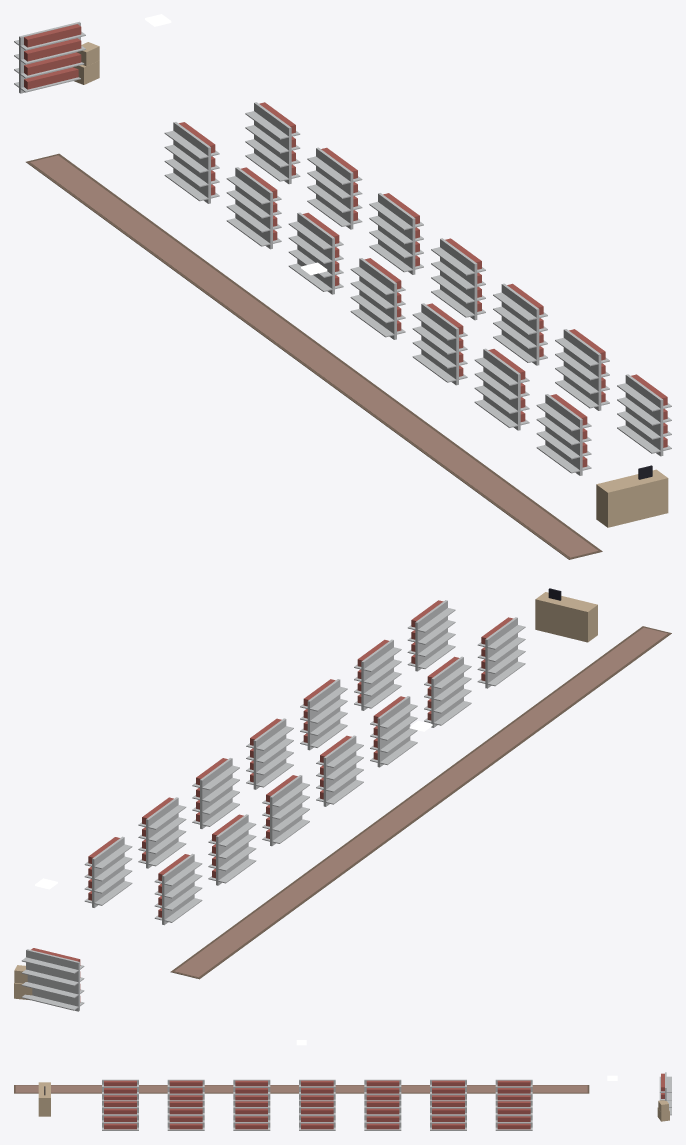
File: fine-s0.glb
The picture shows the model from 3 angles, top to bottom: view 1: azimuth 30°, elevation 25°; view 2: azimuth 150°, elevation 25°; view 3: azimuth 270°, elevation 25°; orthographic projection. The views are drawn at different scales.
Parts seen in each view (by area): view 1: soft-s0, shelving.000, shop-counter.000, shelf.004, shelf.005, shelf.011, shelf.001, shelf.013, shelf.006, shelf.012, shelf.000, shelf.003 (+6 smaller); view 2: soft-s0, shelving.000, shop-counter.000, shelf.011, shelf.004, shelf.000, shelf.006, shelf.012, shelf.013, shelf.008, shelf.010, shelf.001 (+5 smaller); view 3: soft-s0, shelf.007, shelf.009, shelf.011, shelf.012, shelf.008, shelf.010, shelf.013, shelf.000, shelf.002, shelf.004, shelf.005 (+6 smaller).
Part boxes in pixels (x1=…): soft-s0: x1=26, y1=153, x2=602, y2=559; shelving.000: x1=14, y1=21, x2=85, y2=93; shop-counter.000: x1=596, y1=465, x2=668, y2=527; shelf.004: x1=412, y1=303, x2=467, y2=385; shelf.005: x1=474, y1=348, x2=529, y2=430; shelf.011: x1=493, y1=283, x2=547, y2=365; shelf.001: x1=226, y1=167, x2=281, y2=249; shelf.013: x1=617, y1=374, x2=671, y2=456; shelf.006: x1=536, y1=394, x2=591, y2=475; shelf.012: x1=555, y1=329, x2=609, y2=410; shelf.000: x1=164, y1=122, x2=219, y2=203; shelf.003: x1=350, y1=258, x2=405, y2=339; soft-s0: x1=170, y1=626, x2=671, y2=979; shelving.000: x1=21, y1=948, x2=84, y2=1011; shop-counter.000: x1=535, y1=588, x2=597, y2=642; shelf.011: x1=300, y1=679, x2=347, y2=750; shelf.004: x1=370, y1=696, x2=417, y2=767; shelf.000: x1=154, y1=853, x2=202, y2=925; shelf.006: x1=477, y1=617, x2=525, y2=688; shelf.012: x1=354, y1=639, x2=401, y2=710; shelf.013: x1=407, y1=600, x2=455, y2=671; shelf.008: x1=138, y1=797, x2=186, y2=868; shelf.010: x1=246, y1=718, x2=293, y2=789; shelf.001: x1=208, y1=814, x2=256, y2=885; soft-s0: x1=14, y1=1085, x2=589, y2=1093; shelf.007: x1=495, y1=1100, x2=532, y2=1130; shelf.009: x1=364, y1=1100, x2=401, y2=1130; shelf.011: x1=233, y1=1100, x2=270, y2=1130; shelf.012: x1=167, y1=1100, x2=204, y2=1130; shelf.008: x1=430, y1=1100, x2=466, y2=1130; shelf.010: x1=299, y1=1100, x2=335, y2=1130; shelf.013: x1=102, y1=1100, x2=138, y2=1130; shelf.000: x1=495, y1=1079, x2=532, y2=1100; shelf.002: x1=364, y1=1079, x2=401, y2=1100; shelf.004: x1=233, y1=1079, x2=270, y2=1100; shelf.005: x1=167, y1=1079, x2=204, y2=1100.
Bounding box in the file's own units: 5.55 × 2.53 × 32.09.
